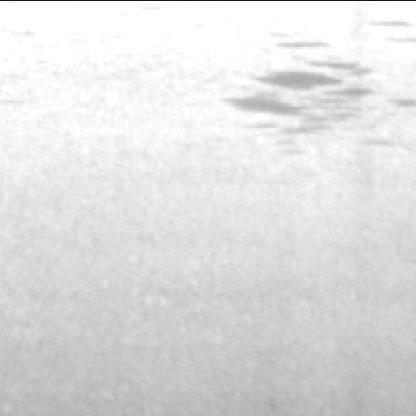inclusion: (227, 28, 393, 148)
